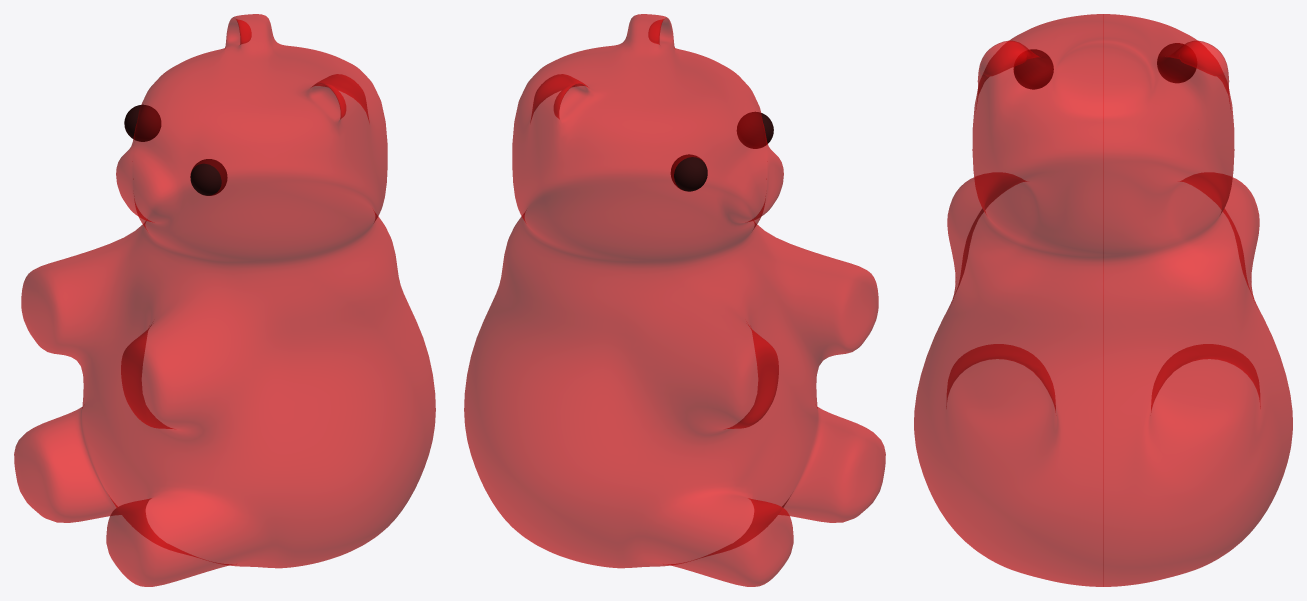
The model's file is gummybear.glb.
The picture shows the model from 3 angles, left to right: view 1: azimuth 30°, elevation 25°; view 2: azimuth 150°, elevation 25°; view 3: azimuth 270°, elevation 25°; orthographic projection. The views are drawn at different scales.
Visible parts, largest first — view 1: Sphere.219; view 2: Sphere.219; view 3: Sphere.219.
Part boxes in pixels (bbox=[...]): Sphere.219: bbox=[14, 14, 435, 586]; Sphere.219: bbox=[464, 14, 885, 586]; Sphere.219: bbox=[914, 14, 1292, 586].
Bounding box in the file's own units: 2.11 × 2.88 × 1.9.
